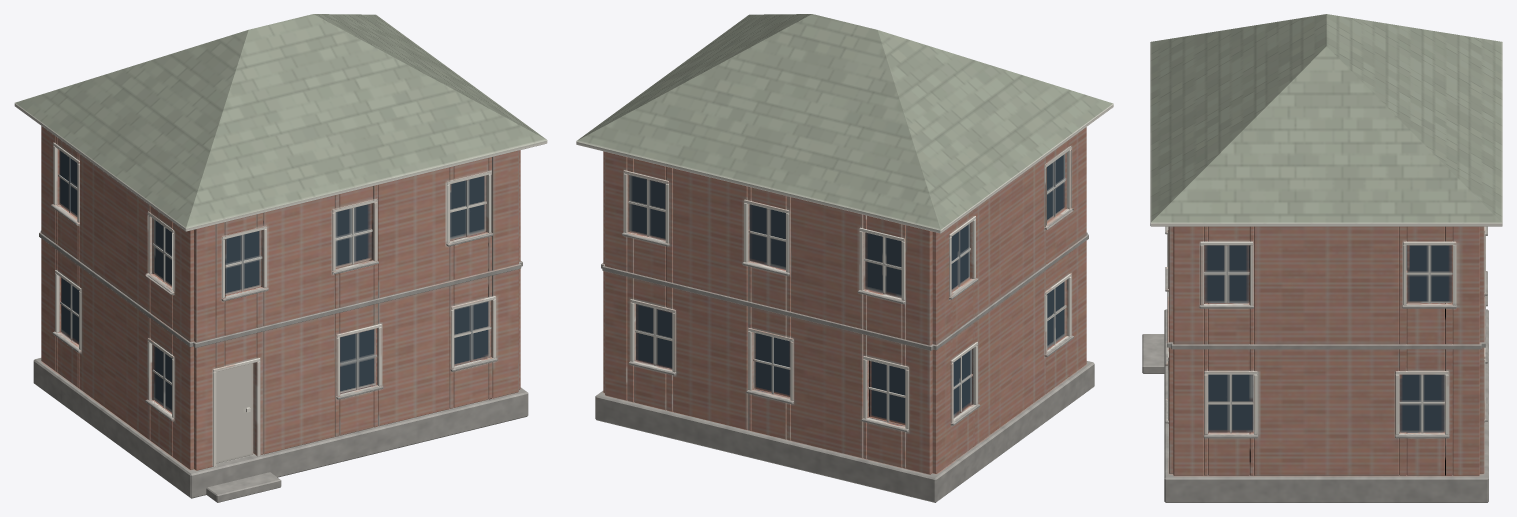
File: house_brick.glb
3 views of the same model, side by side, from view 1: azimuth 30°, elevation 25°; view 2: azimuth 150°, elevation 25°; view 3: azimuth 270°, elevation 25° (orthographic). The views are drawn at different scales.
Visible parts, largest first — view 1: house_brick; view 2: house_brick; view 3: house_brick.
Part boxes in pixels (left/top/right/bottom): house_brick: left=14, top=14, right=547, bottom=502; house_brick: left=576, top=14, right=1113, bottom=502; house_brick: left=1142, top=14, right=1502, bottom=502.
Size of the model in its own units: 8.4 by 8.4 by 7.06.
1 material, 1 textured.
